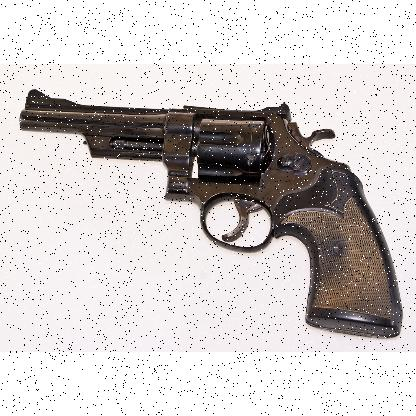gun: (20, 87, 402, 336)
